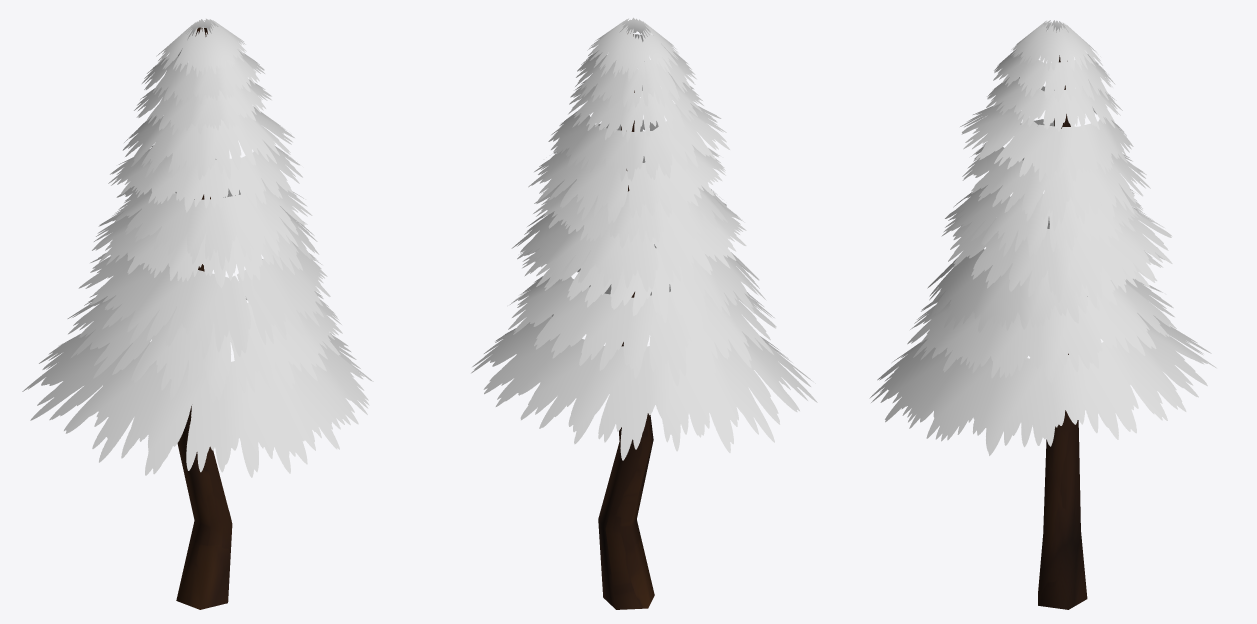
Rendered from Pine_tree_large.fbx.
The picture shows the model from 3 angles, left to right: view 1: azimuth 30°, elevation 25°; view 2: azimuth 150°, elevation 25°; view 3: azimuth 270°, elevation 25°; orthographic projection.
Parts seen in each view (by area): view 1: Pine_tree_large; view 2: Pine_tree_large; view 3: Pine_tree_large.
Boxes of the visible parts, x1=… form: Pine_tree_large: x1=22, y1=18, x2=373, y2=609; Pine_tree_large: x1=471, y1=17, x2=817, y2=609; Pine_tree_large: x1=869, y1=20, x2=1216, y2=609.
Bounding box in the file's own units: 380 × 620 × 370.
